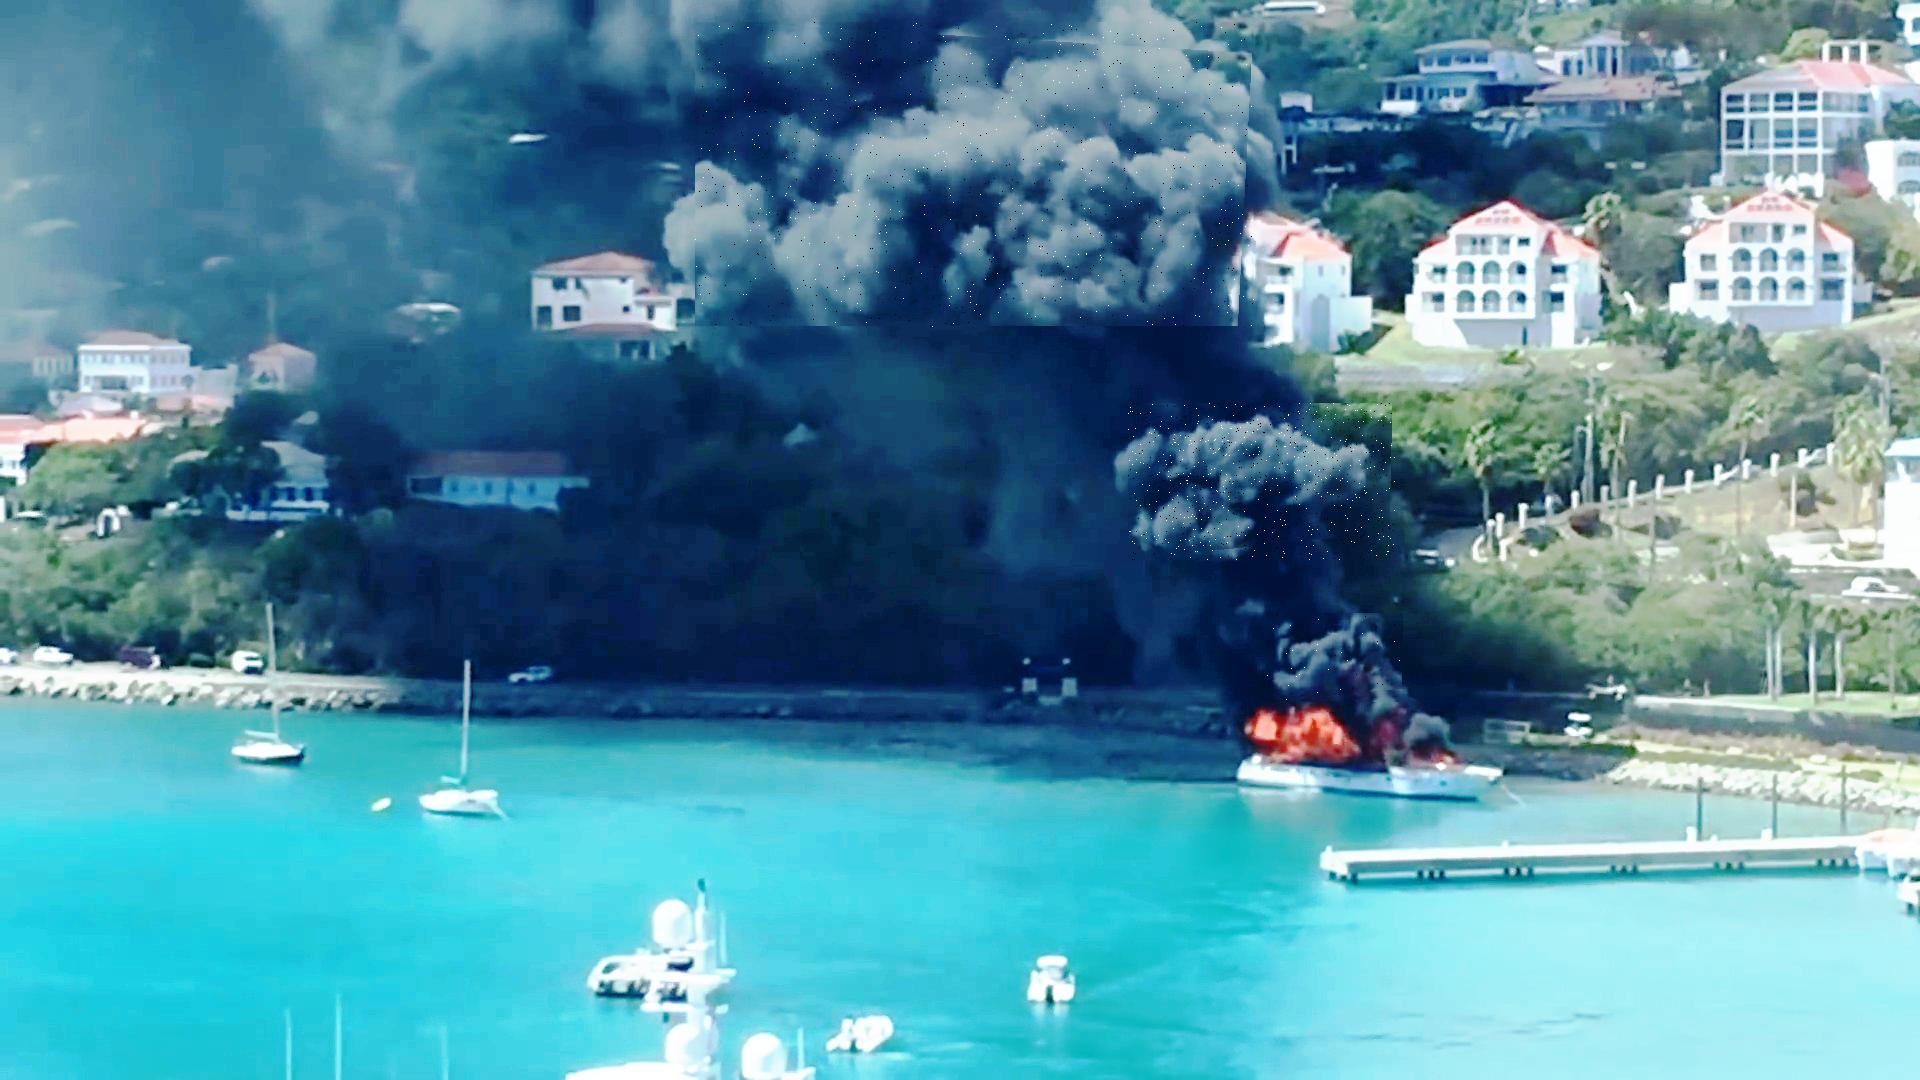smoke: (696, 22, 1254, 328), (1129, 404, 1395, 560), (1267, 613, 1406, 703)
